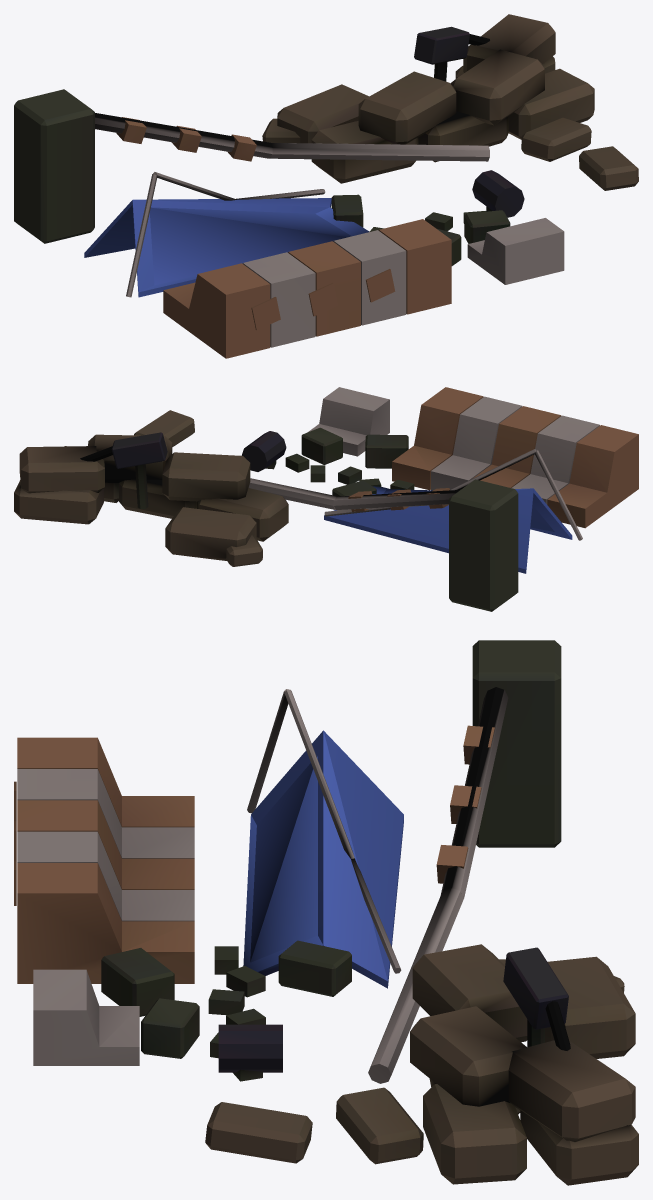
File: decay.abandoned-checkpoint.glb
3 views of the same model, one above another, from view 1: azimuth 30°, elevation 25°; view 2: azimuth 150°, elevation 25°; view 3: azimuth 270°, elevation 25° (orthographic). The views are drawn at different scales.
Parts seen in each view (by area): view 1: body; view 2: body; view 3: body.
Part boxes in pixels (x1,y1,x2,y2): body: [14, 14, 638, 358]; body: [14, 387, 638, 611]; body: [14, 640, 638, 1185].
Size of the model in its own units: 5.54 by 1.2 by 3.88.
